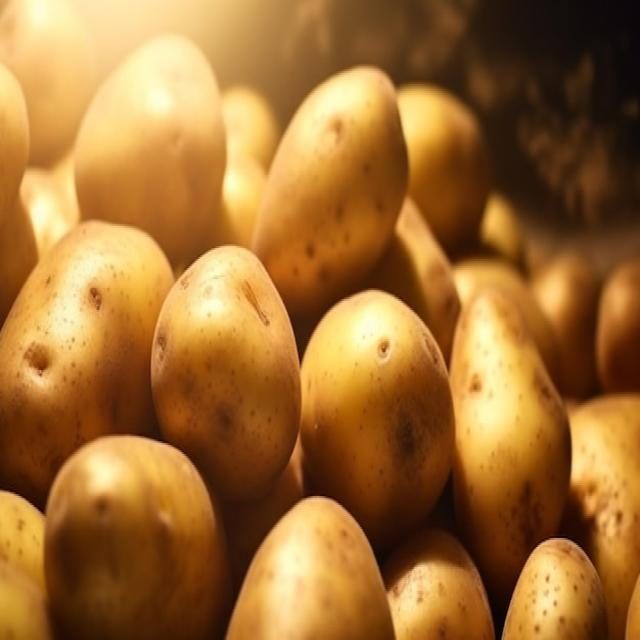Potato: (140, 236, 320, 519), (253, 49, 404, 350), (298, 273, 464, 535), (13, 208, 170, 450), (455, 253, 573, 560), (68, 32, 230, 235)
